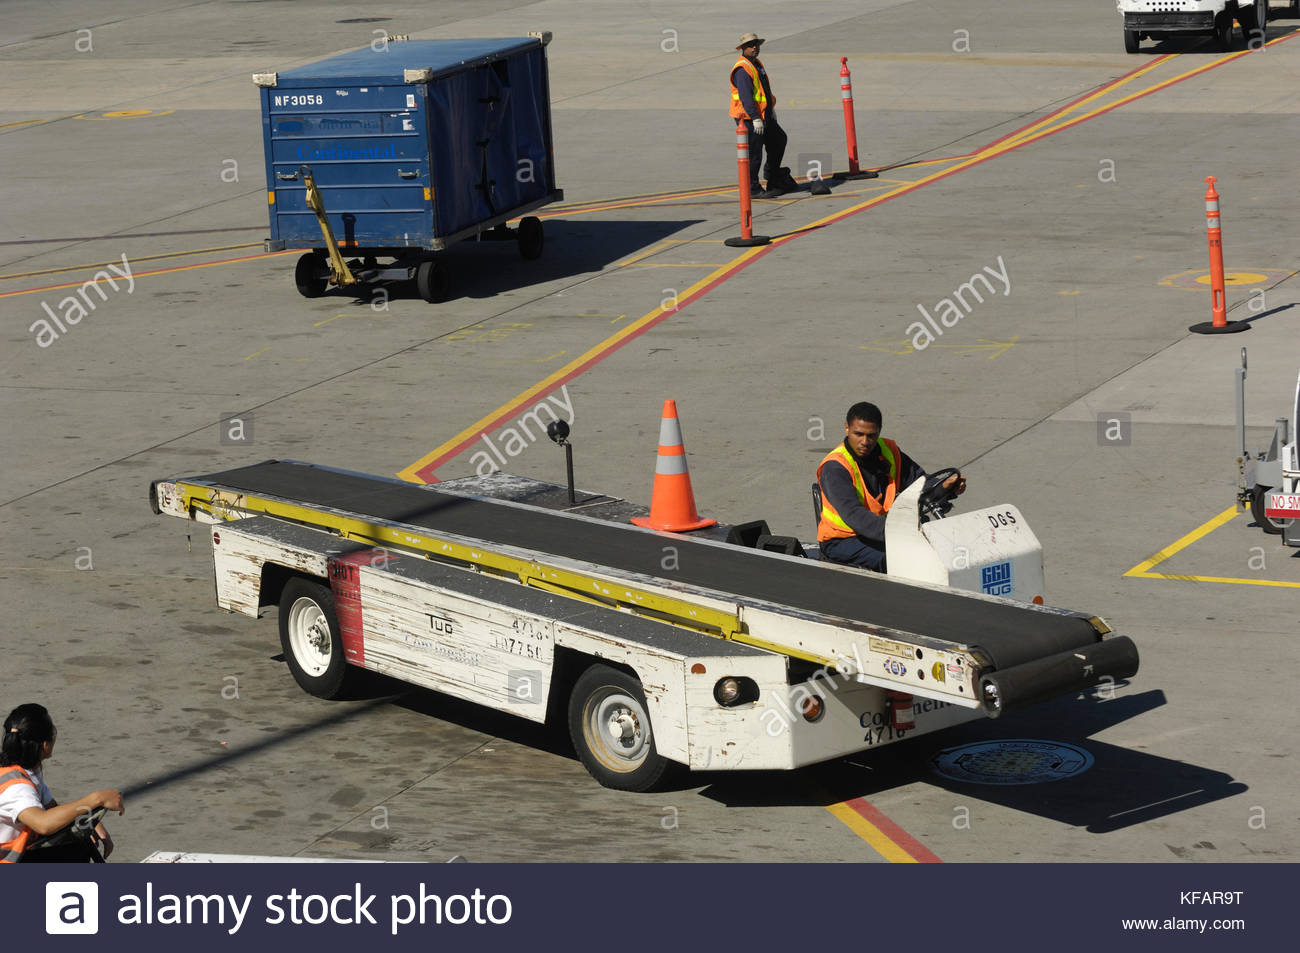baggagetruck: (153, 436, 1159, 799)
